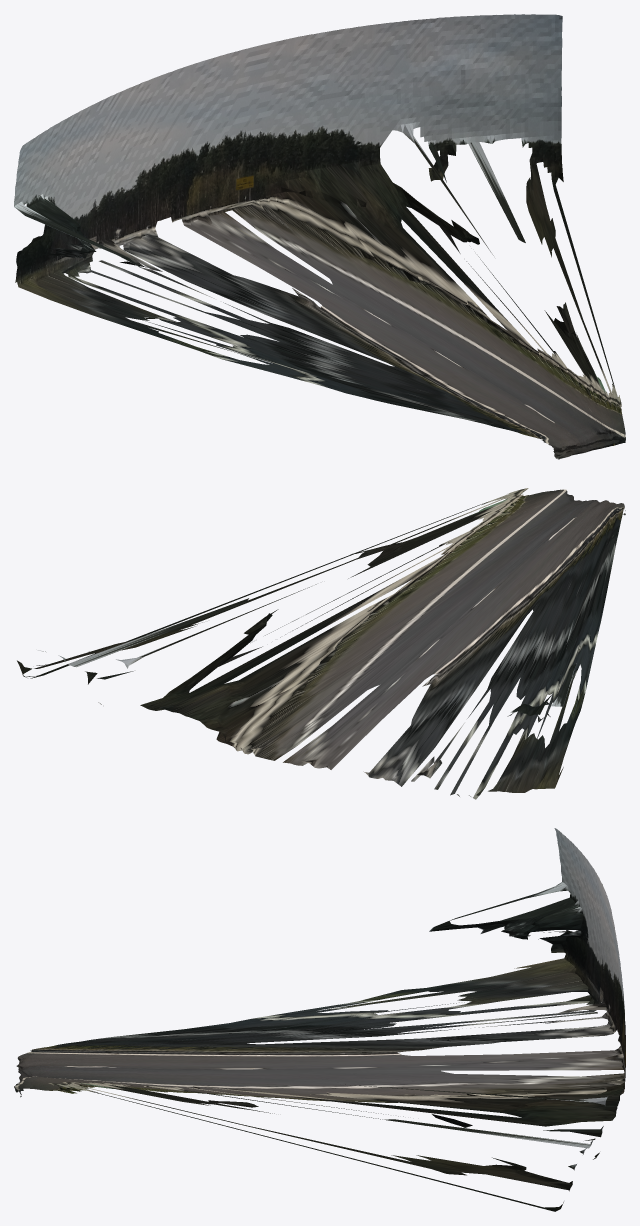
3 renders of one model, top to bottom at view 1: azimuth 30°, elevation 25°; view 2: azimuth 150°, elevation 25°; view 3: azimuth 270°, elevation 25°, orthographic. The views are drawn at different scales.
Parts seen in each view (by area): view 1: defaultobject; view 2: defaultobject; view 3: defaultobject.
Part boxes in pixels (box(x1,y1,x2,y2)): defaultobject: box(14, 14, 625, 459); defaultobject: box(17, 488, 625, 799); defaultobject: box(14, 828, 625, 1211).
Bounding box in the file's own units: 41.06 × 12.83 × 44.32.
1 material, 1 textured.
